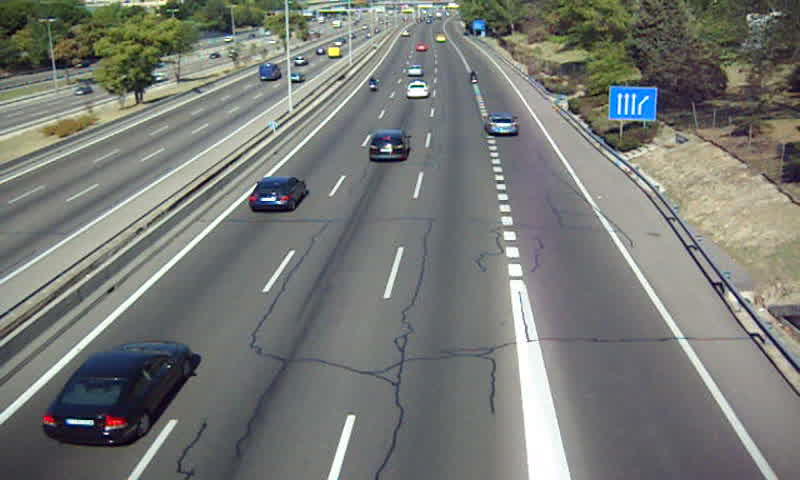car: (43, 342, 192, 444), (250, 176, 308, 212), (368, 130, 411, 161), (484, 112, 520, 137), (406, 81, 430, 99), (406, 63, 422, 76)
motorcycle: (369, 73, 378, 95), (468, 70, 480, 86)
